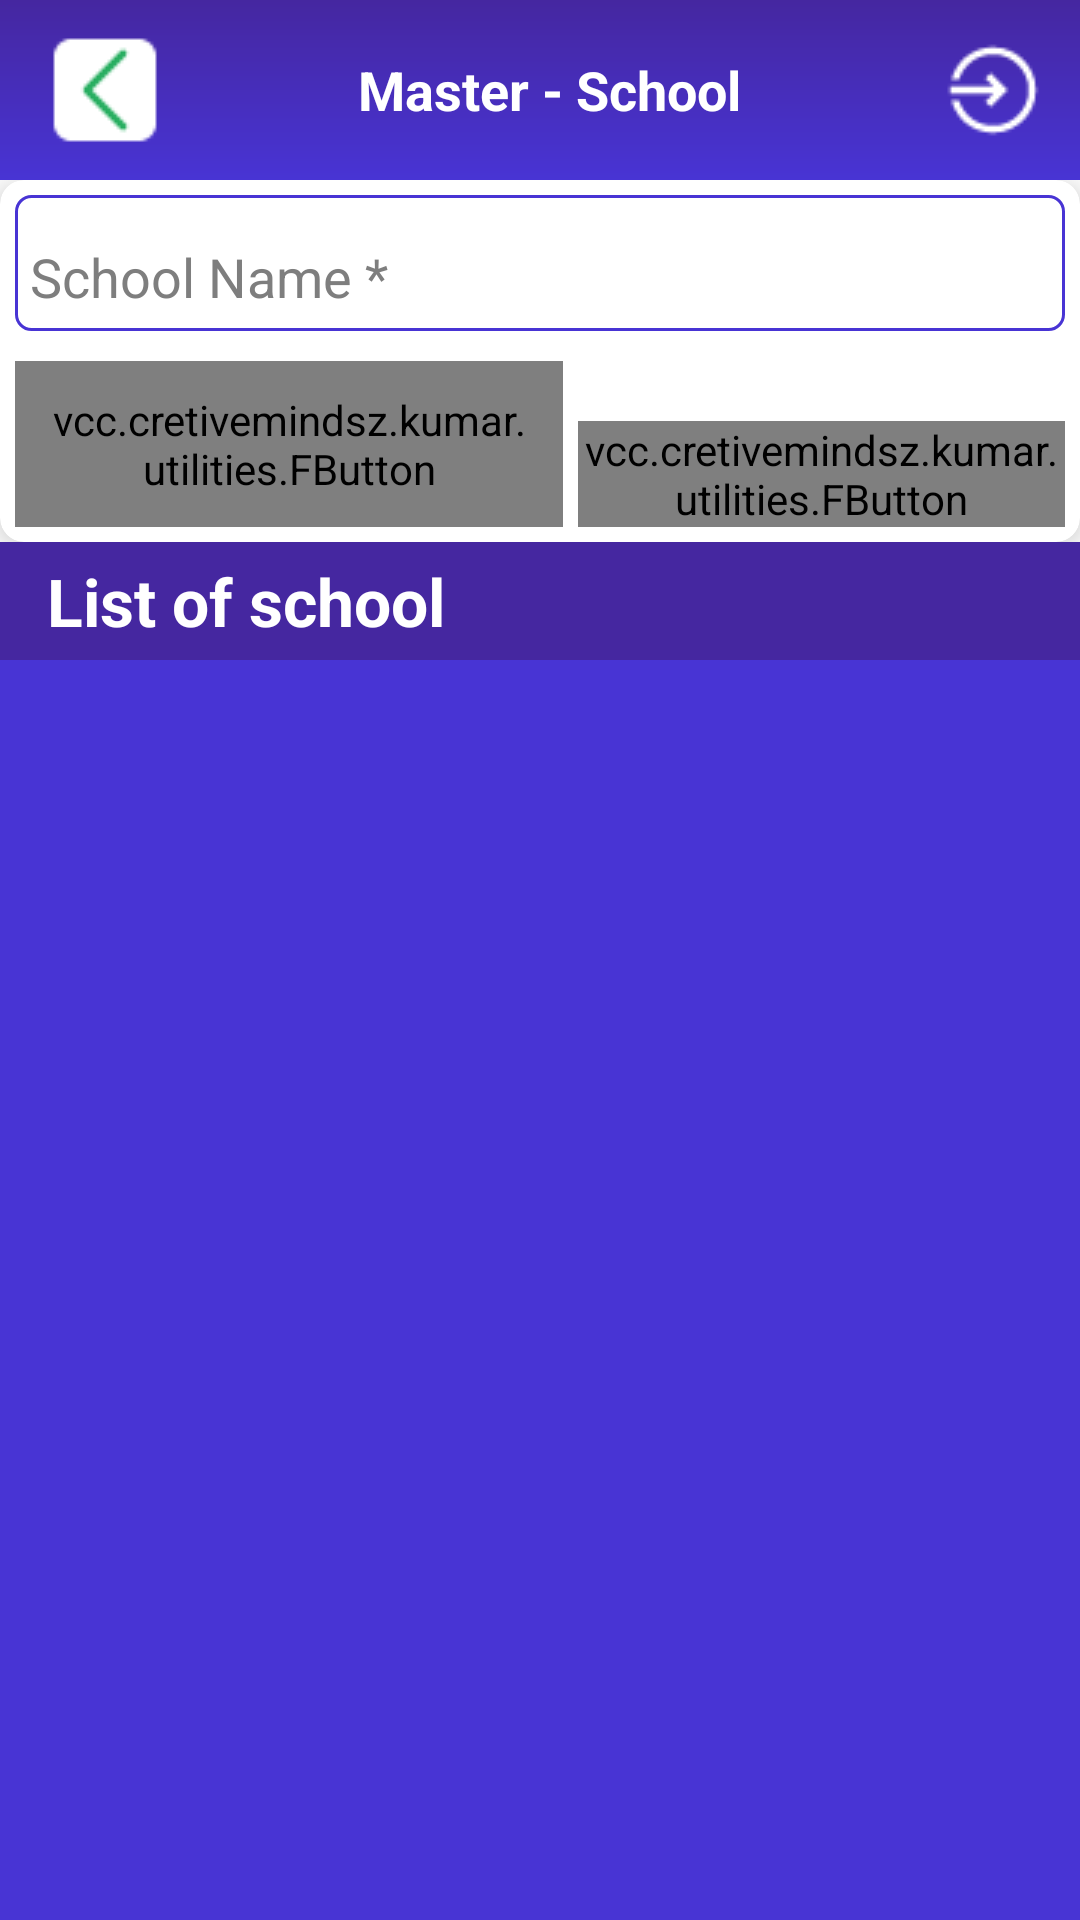

Where to tap for icons on this 1080 x 1920 app screen, as [x,y]:
back: [105,92]
exit: [993,96]
